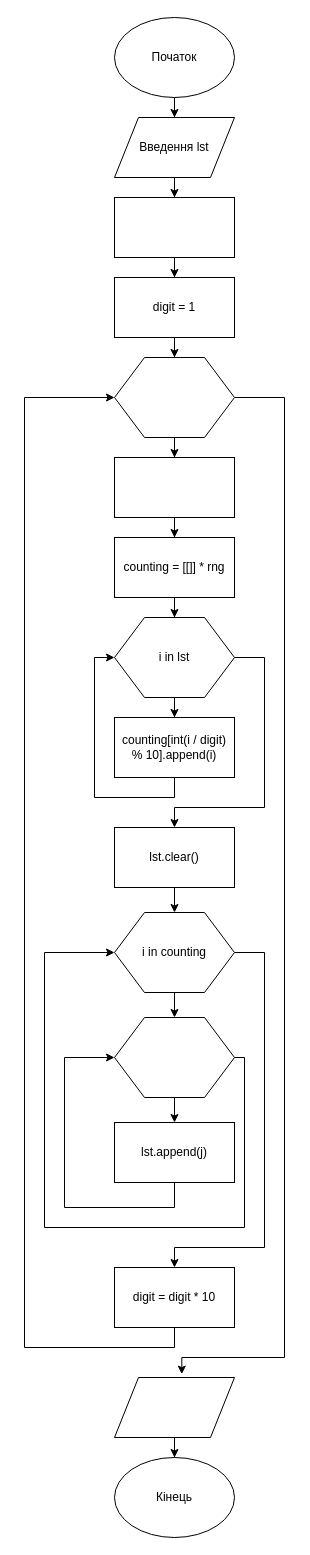
The diagram is 310 pixels wide and 1555 high, and some of its shapes have lost their labels. Each missing label, with the box of its shape:
j in i: (114, 1016, 234, 1098)
k = 1; k <= r; k++: (114, 356, 234, 438)
r = len(max(lst)): (114, 196, 234, 258)
rng = max(int(i / digit) % 10 for i in lst) + 1: (114, 456, 234, 518)
Виведення lst: (114, 1376, 234, 1438)
